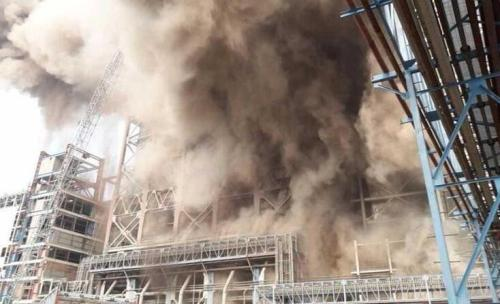smoke: (113, 6, 389, 200)
